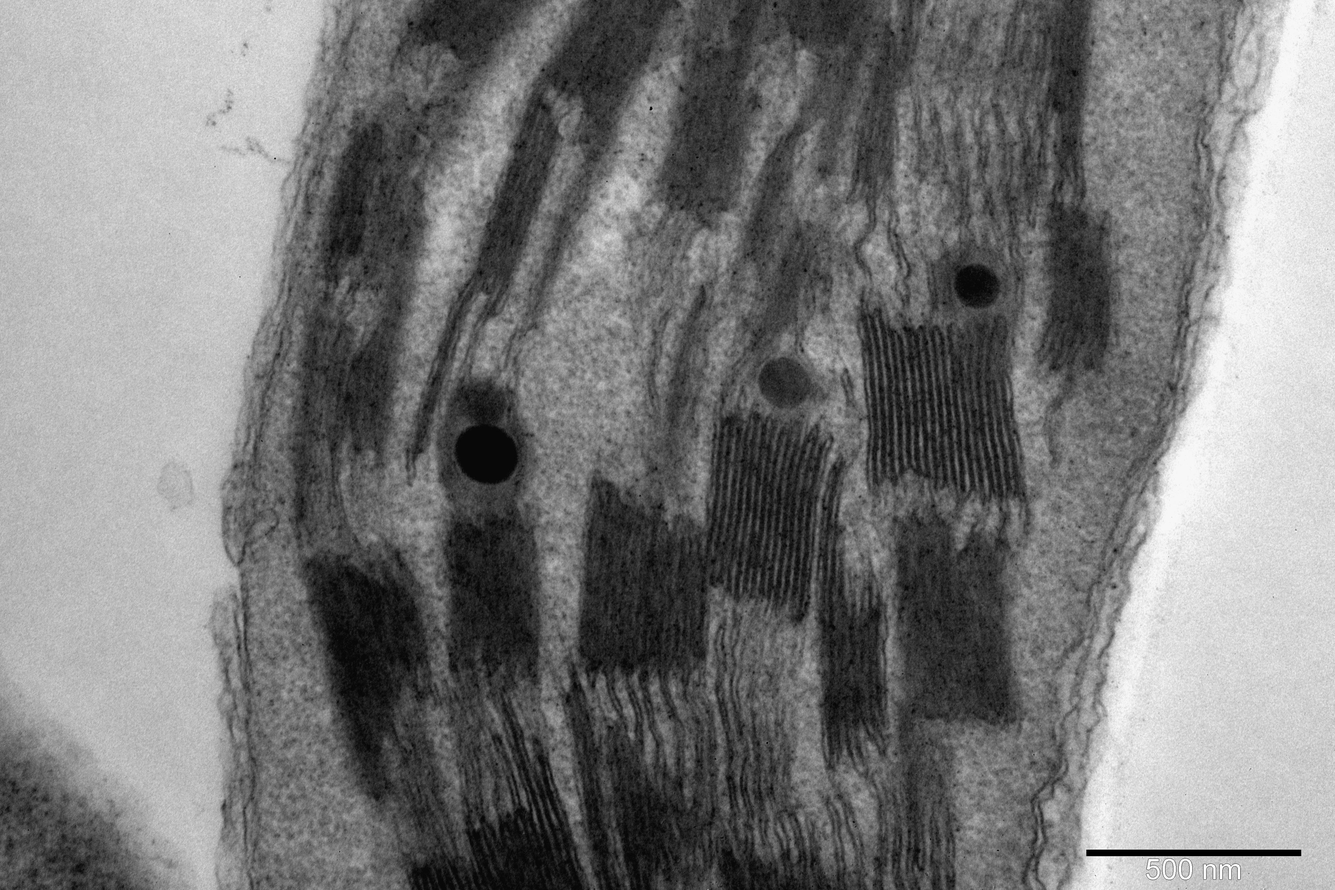granum: (295, 543, 429, 804), (854, 310, 1032, 500), (889, 518, 1023, 732), (651, 0, 769, 226), (574, 478, 711, 670), (703, 416, 834, 613), (287, 313, 400, 533), (405, 759, 594, 890), (539, 0, 680, 161), (467, 95, 564, 305), (815, 523, 895, 745), (442, 518, 543, 679), (561, 689, 629, 890), (842, 22, 917, 204), (433, 383, 535, 513), (1036, 210, 1117, 352), (401, 0, 546, 72), (1044, 0, 1097, 181), (321, 127, 386, 274), (602, 735, 661, 890), (737, 129, 801, 260), (749, 230, 816, 350), (778, 0, 868, 63)
